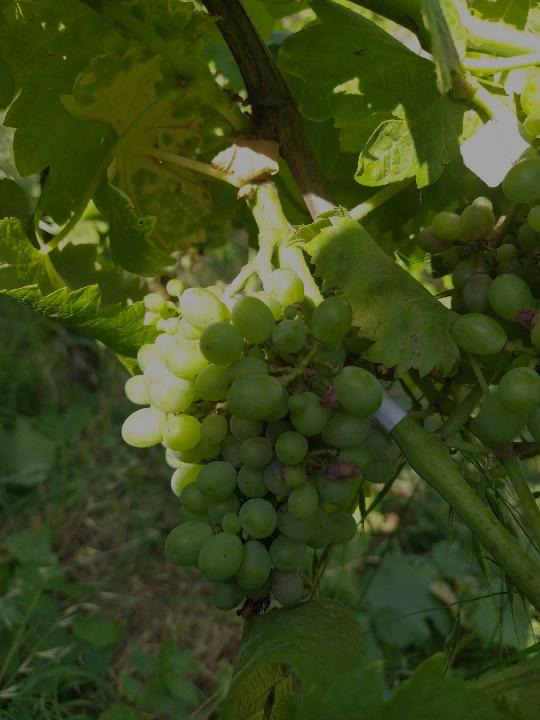grape: (118, 267, 385, 612)
